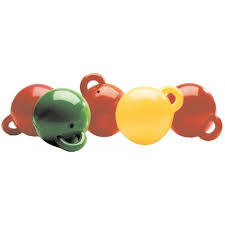buoy: (164, 83, 223, 141), (76, 74, 125, 137), (2, 85, 55, 137)
